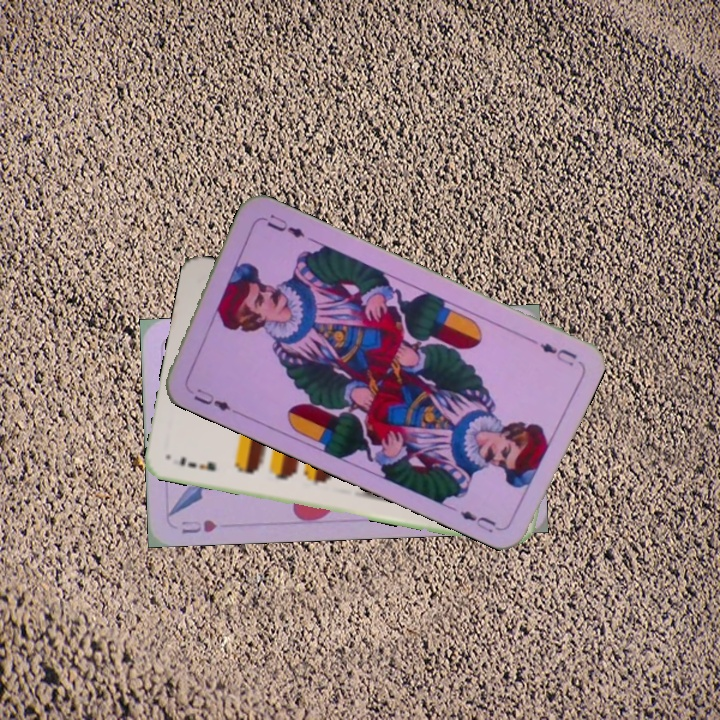E7: (175, 452, 218, 474)
EU: (535, 339, 580, 369), (189, 384, 233, 414)
HU: (177, 516, 219, 537)
